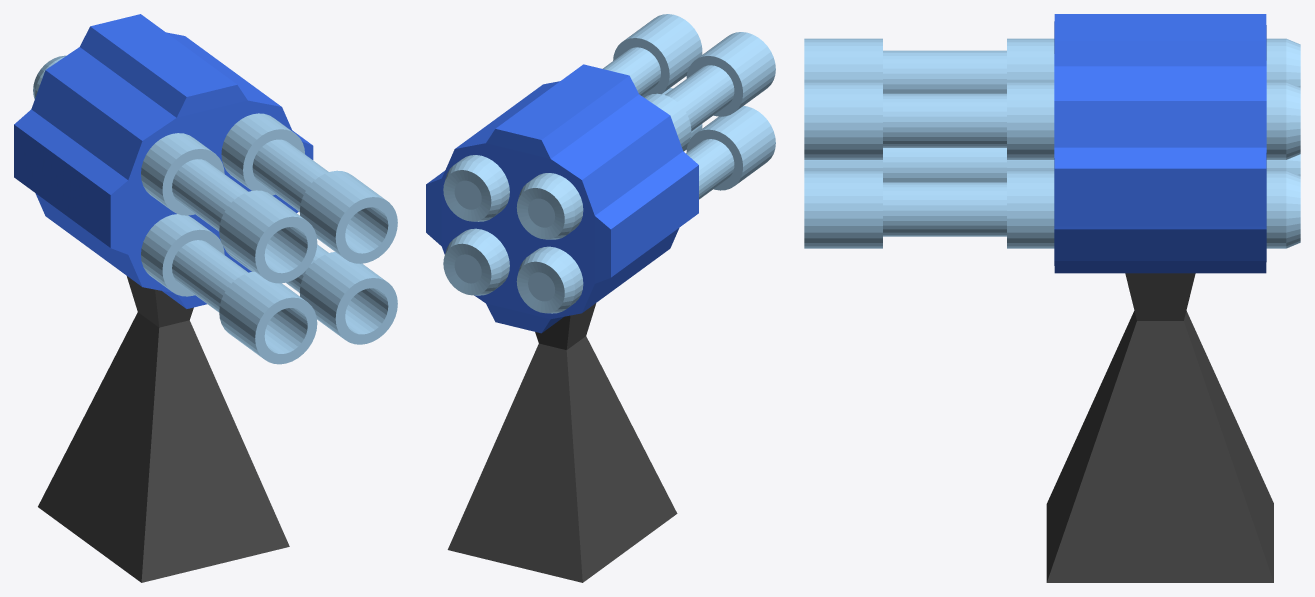
File: Gun001.fbx
The picture shows the model from 3 angles, left to right: view 1: azimuth 30°, elevation 25°; view 2: azimuth 150°, elevation 25°; view 3: azimuth 270°, elevation 25°; orthographic projection. The views are drawn at different scales.
Parts seen in each view (by area): view 1: Gun 002, Gun 003, Gun 001; view 2: Gun 001, Gun 003, Gun 002; view 3: Gun 002, Gun 001, Gun 003.
Part boxes in pixels (x1,y1,x2,y2): Gun 002: [33, 55, 397, 364]; Gun 003: [38, 276, 289, 582]; Gun 001: [14, 14, 313, 308]; Gun 001: [426, 64, 698, 333]; Gun 003: [447, 303, 677, 582]; Gun 002: [443, 14, 775, 313]; Gun 002: [804, 38, 1300, 248]; Gun 001: [1054, 14, 1266, 273]; Gun 003: [1046, 273, 1273, 582].
Size of the model in its own units: 47.93 by 106 by 92.88.
